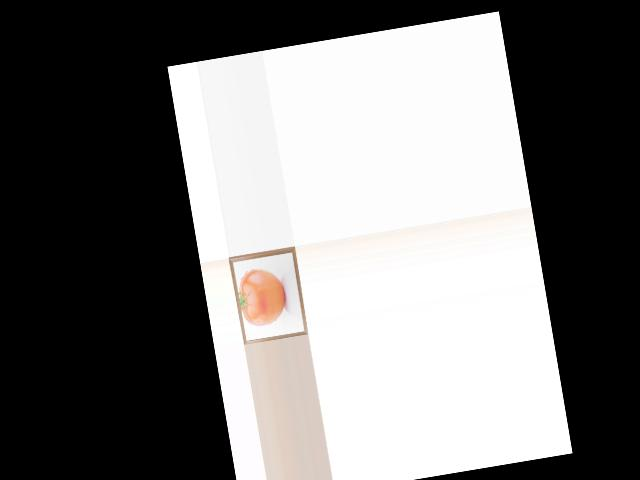tomato: (234, 264, 289, 328)
